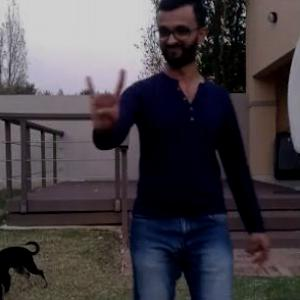takeoff-hand: (74, 61, 128, 136)
